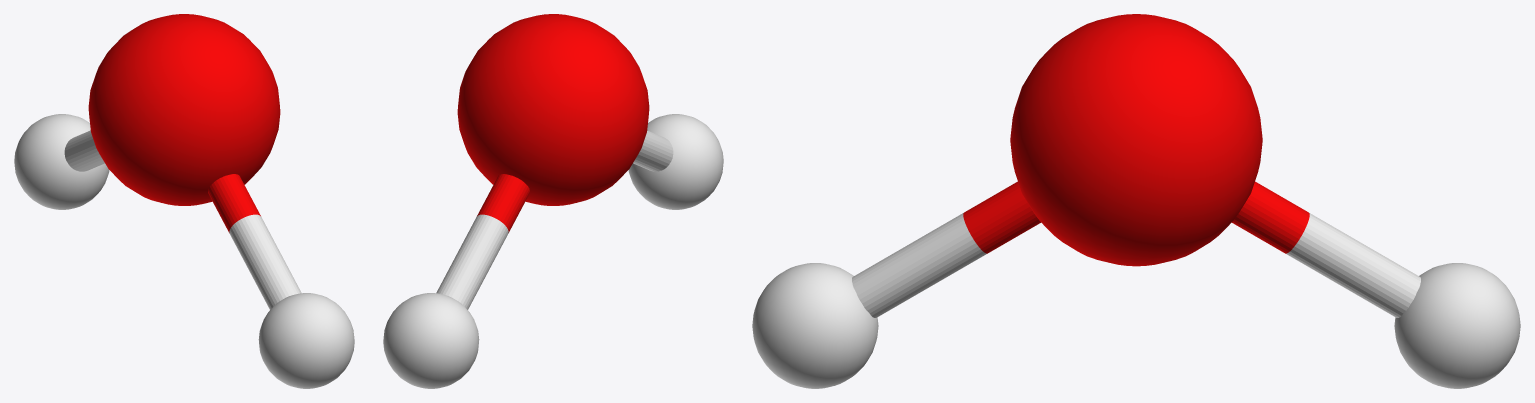
File: water_frame1.glb
The picture shows the model from 3 angles, left to right: view 1: azimuth 30°, elevation 25°; view 2: azimuth 150°, elevation 25°; view 3: azimuth 270°, elevation 25°; orthographic projection. The views are drawn at different scales.
Parts seen in each view (by area): view 1: O01, H03, H02, O01-H03, O01-H02; view 2: O01, H02, H03, O01-H02, O01-H03; view 3: O01, H02, H03, O01-H02, O01-H03.
Part boxes in pixels (box(x1,y1,x2,y2)): O01: box(88, 14, 280, 205); H03: box(258, 293, 354, 388); H02: box(14, 114, 109, 209); O01-H03: box(208, 174, 301, 309); O01-H02: box(64, 130, 104, 171); O01: box(457, 14, 649, 205); H02: box(383, 293, 479, 388); H03: box(628, 114, 723, 209); O01-H02: box(436, 174, 529, 309); O01-H03: box(633, 130, 673, 171); O01: box(1010, 14, 1262, 266); H02: box(1394, 263, 1520, 388); H03: box(752, 263, 878, 388); O01-H02: box(1232, 181, 1420, 317); O01-H03: box(852, 181, 1040, 317).
Size of the model in its own units: 0.64 by 0.9993 by 1.95.
